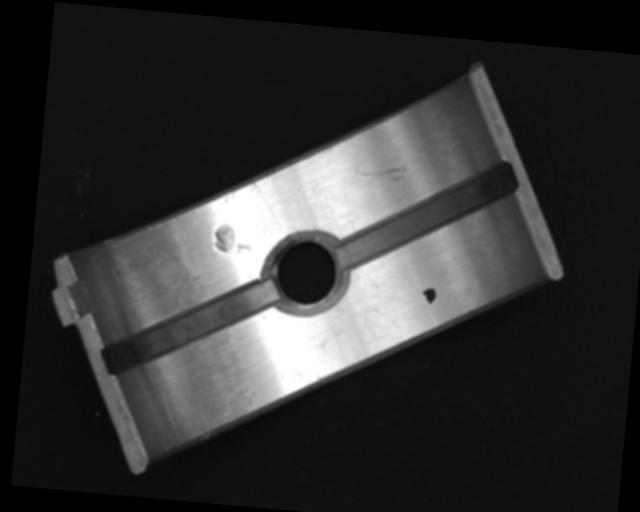blot: (421, 286, 437, 305)
bruise: (211, 222, 255, 256)
gap: (339, 148, 516, 283), (103, 268, 277, 387)
hole: (263, 228, 346, 318)
nick: (351, 160, 408, 184)
